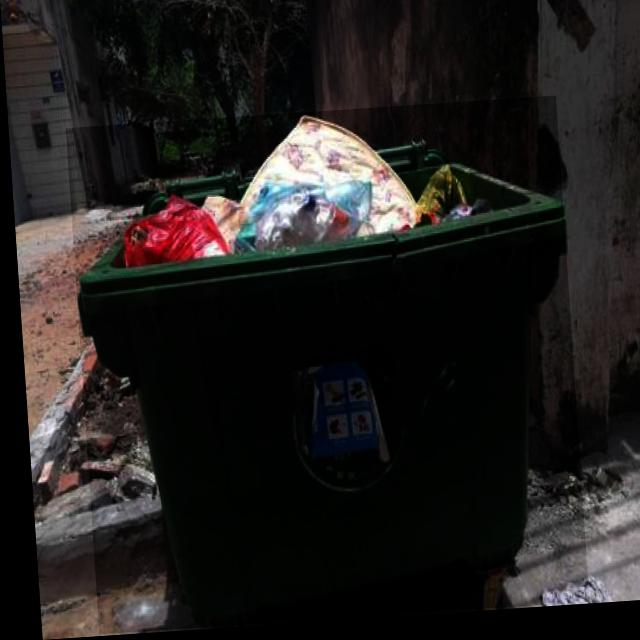overflow: (64, 103, 581, 635)
